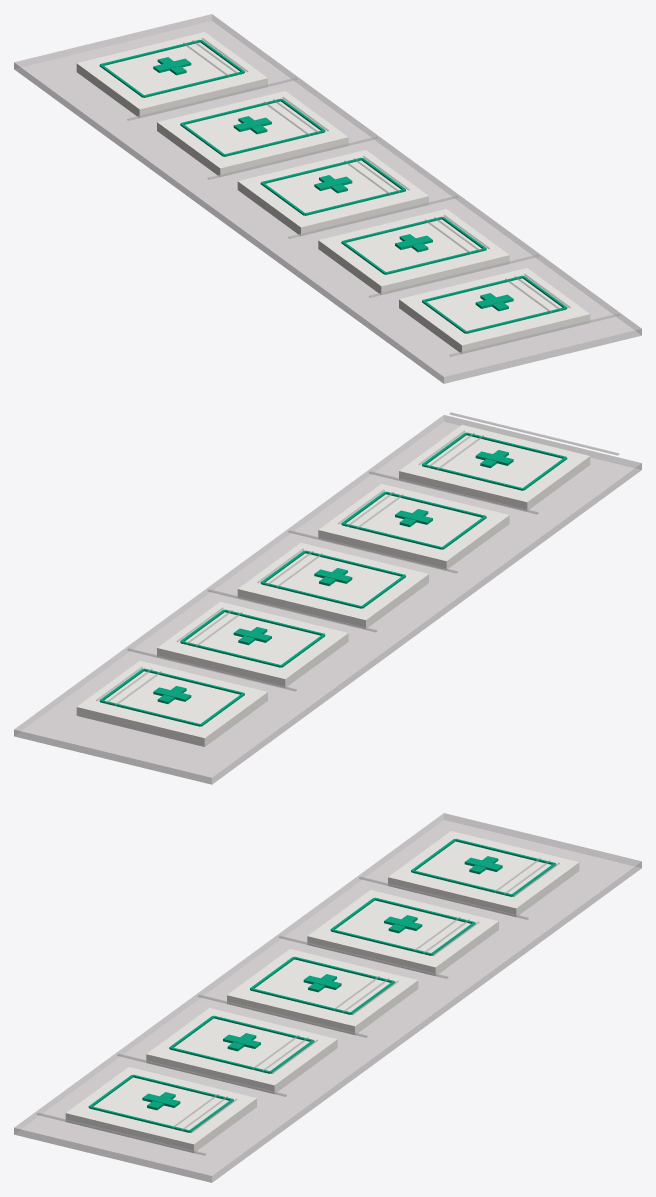
File: kertasPuyer.fbx
3 views of the same model, one above another, from view 1: azimuth 30°, elevation 25°; view 2: azimuth 150°, elevation 25°; view 3: azimuth 330°, elevation 25° (orthographic).
Parts seen in each view (by area): view 1: Kosong_1_FoldLine_1; view 2: Kosong_1_FoldLine_1; view 3: Kosong_1_FoldLine_1.
Part boxes in pixels (x1,y1,x2,y2): Kosong_1_FoldLine_1: (14,14,641,383); Kosong_1_FoldLine_1: (14,412,641,784); Kosong_1_FoldLine_1: (14,813,641,1182).
Size of the model in its own units: 105 by 12.05 by 395.
